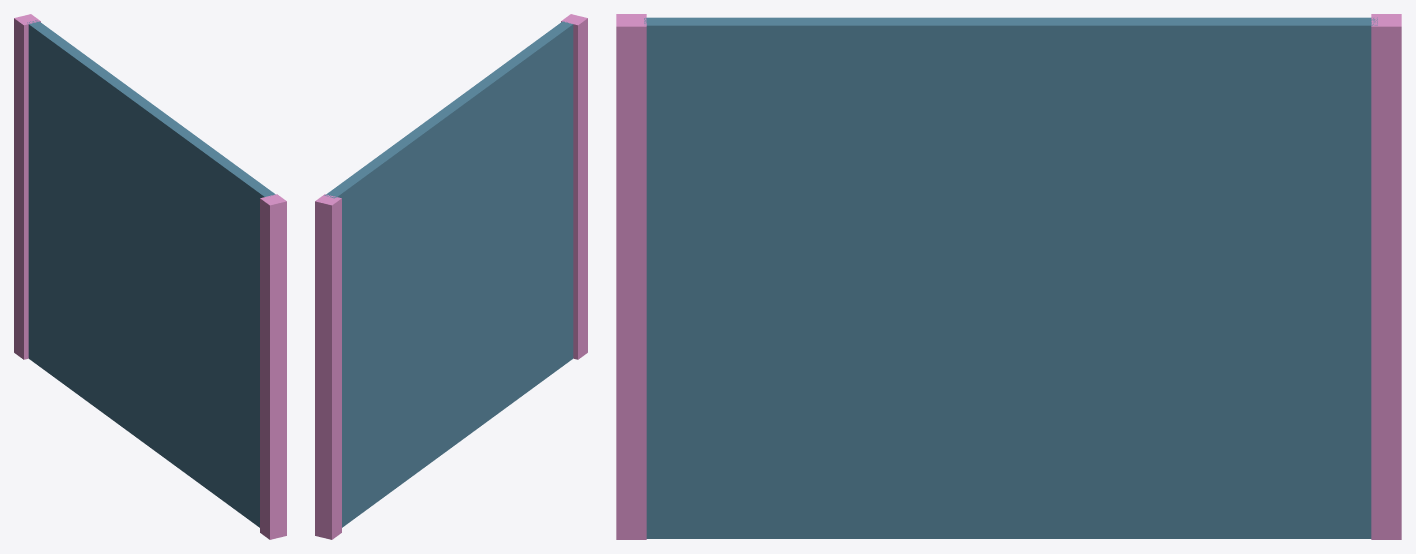
File: donusum_renk.fbx
3 views of the same model, side by side, from view 1: azimuth 30°, elevation 25°; view 2: azimuth 150°, elevation 25°; view 3: azimuth 270°, elevation 25° (orthographic). The views are drawn at different scales.
Visible parts, largest first — view 1: donusummerkezi; view 2: donusummerkezi; view 3: donusummerkezi.
Part boxes in pixels (x1=…): donusummerkezi: x1=14, y1=14, x2=286, y2=539; donusummerkezi: x1=315, y1=14, x2=587, y2=539; donusummerkezi: x1=616, y1=14, x2=1401, y2=539.
Bounding box in the file's own units: 0.5099 × 9.55 × 13.24.
